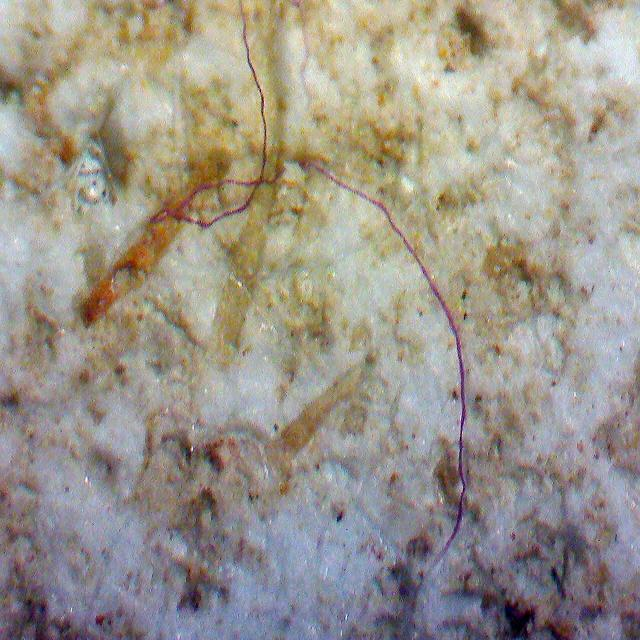microplastic: (149, 21, 467, 567)
